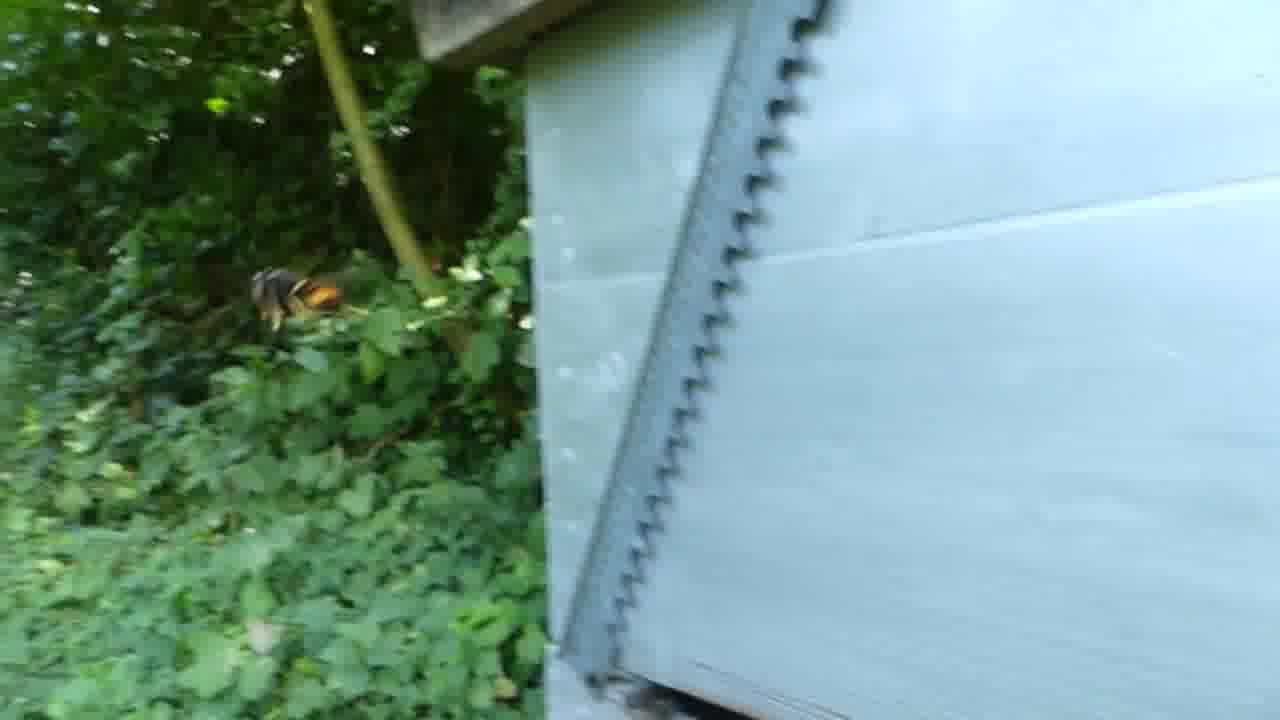hornet: (243, 273, 361, 326)
